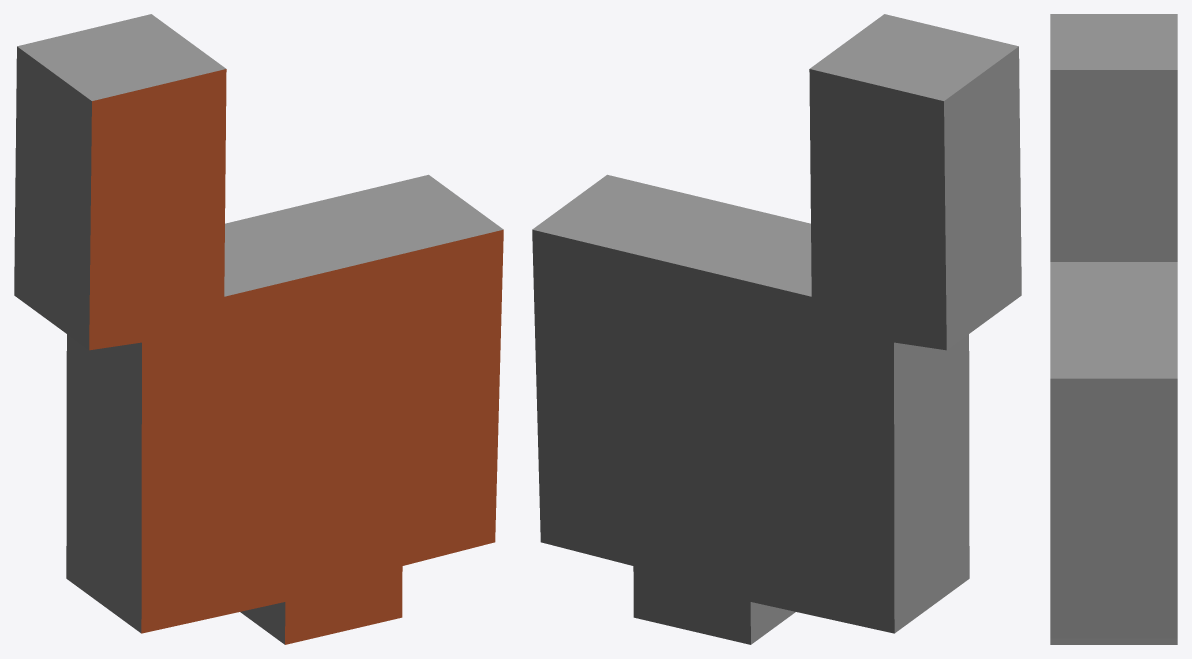
The model's file is construction_0287_assumed_A_Casa_h6m.obj.
3 renders of one model, left to right at view 1: azimuth 30°, elevation 25°; view 2: azimuth 150°, elevation 25°; view 3: azimuth 270°, elevation 25°, orthographic. The views are drawn at different scales.
Visible parts, largest first — view 1: construction_0287_assumed_A_Casa; view 2: construction_0287_assumed_A_Casa; view 3: construction_0287_assumed_A_Casa.
Part boxes in pixels (x1,y1,x2,y2): construction_0287_assumed_A_Casa: (14, 14, 503, 644); construction_0287_assumed_A_Casa: (532, 14, 1021, 644); construction_0287_assumed_A_Casa: (1050, 14, 1177, 644).
Size of the model in its own units: 19.14 by 26.12 by 6.
